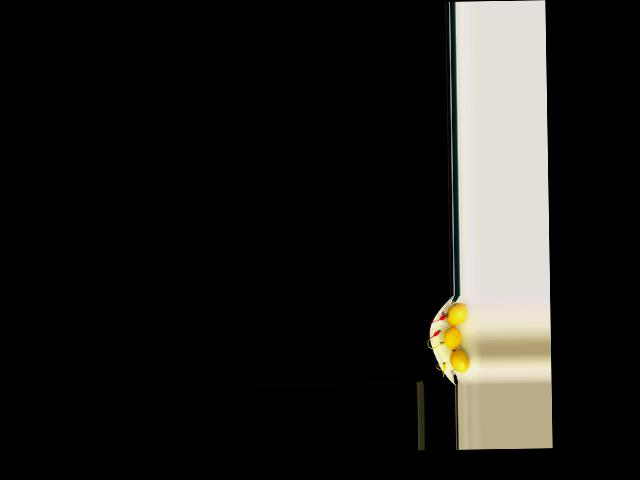lemon: (442, 302, 465, 325)
